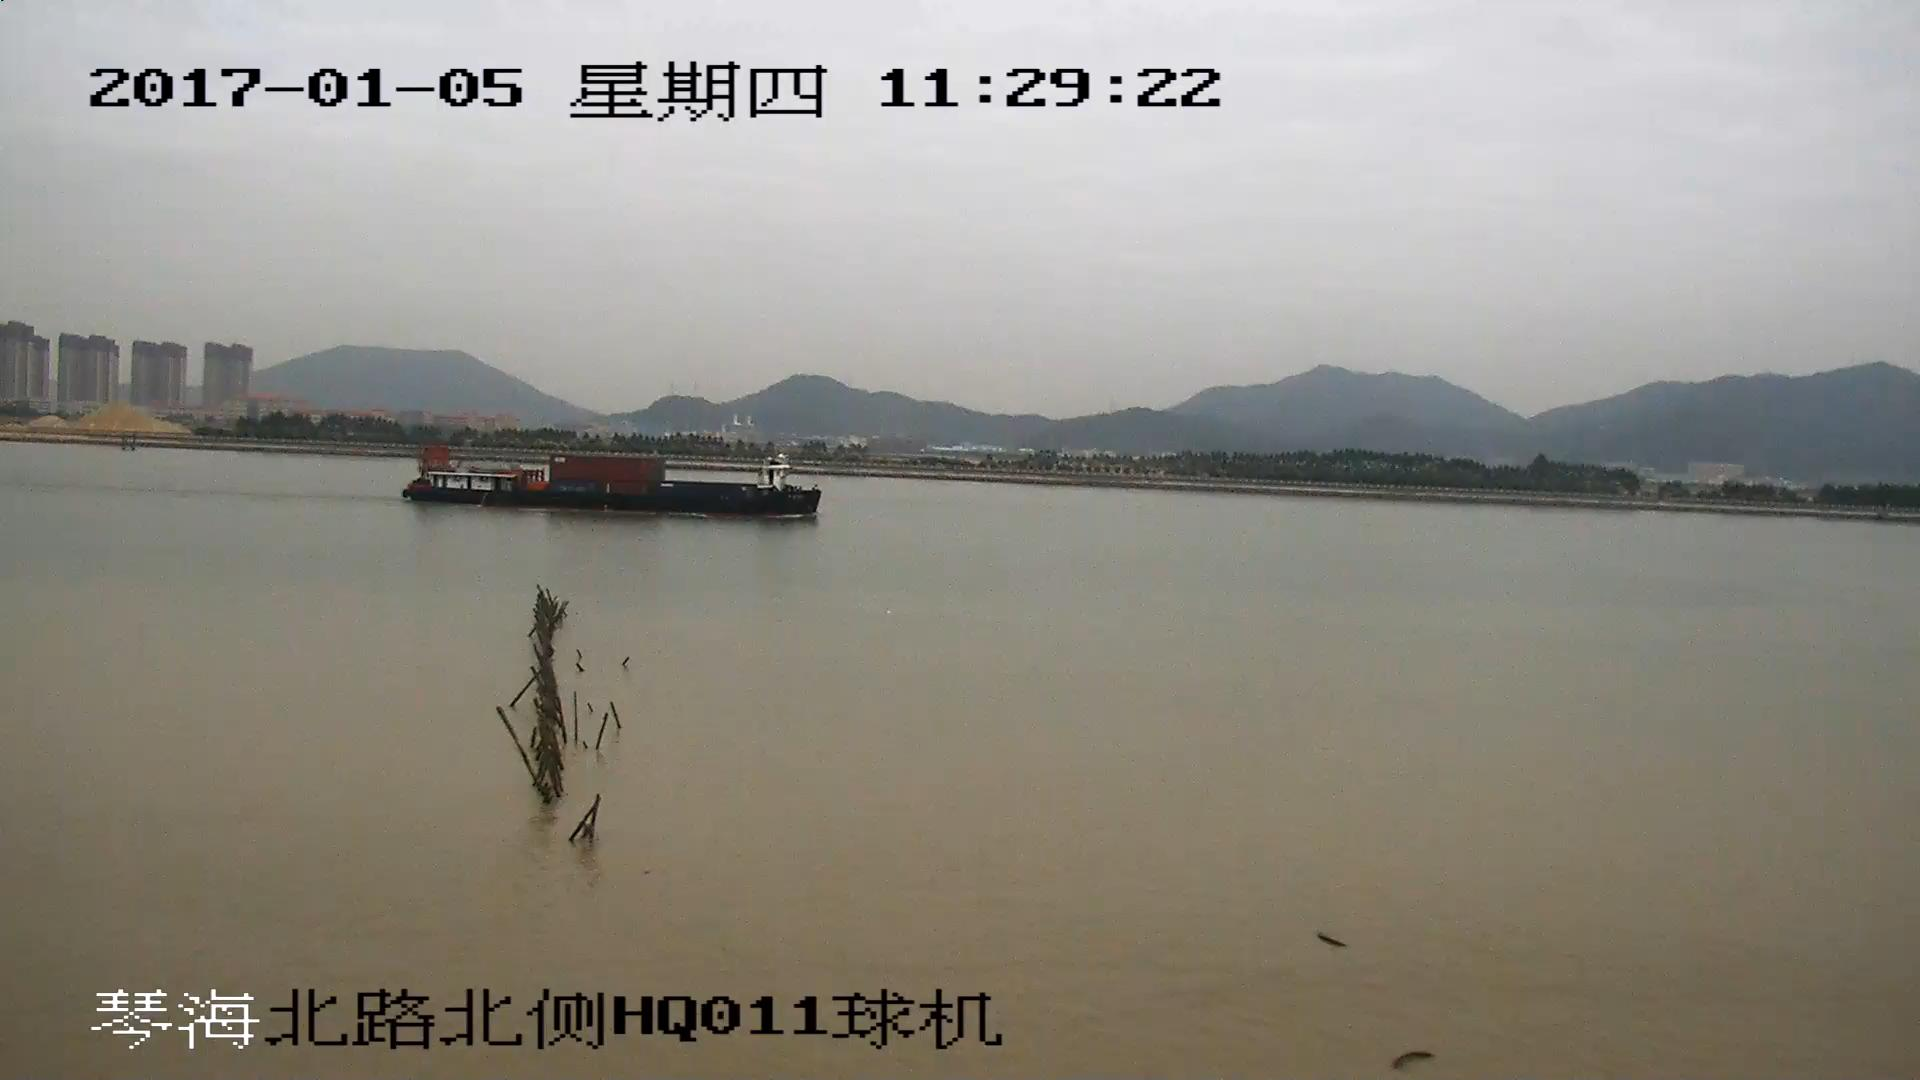container ship: (401, 447, 824, 521)
